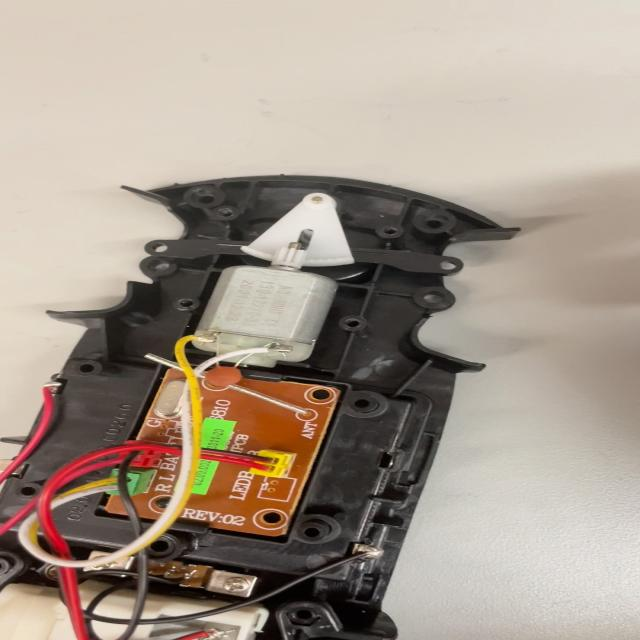motor: (198, 239, 322, 360)
